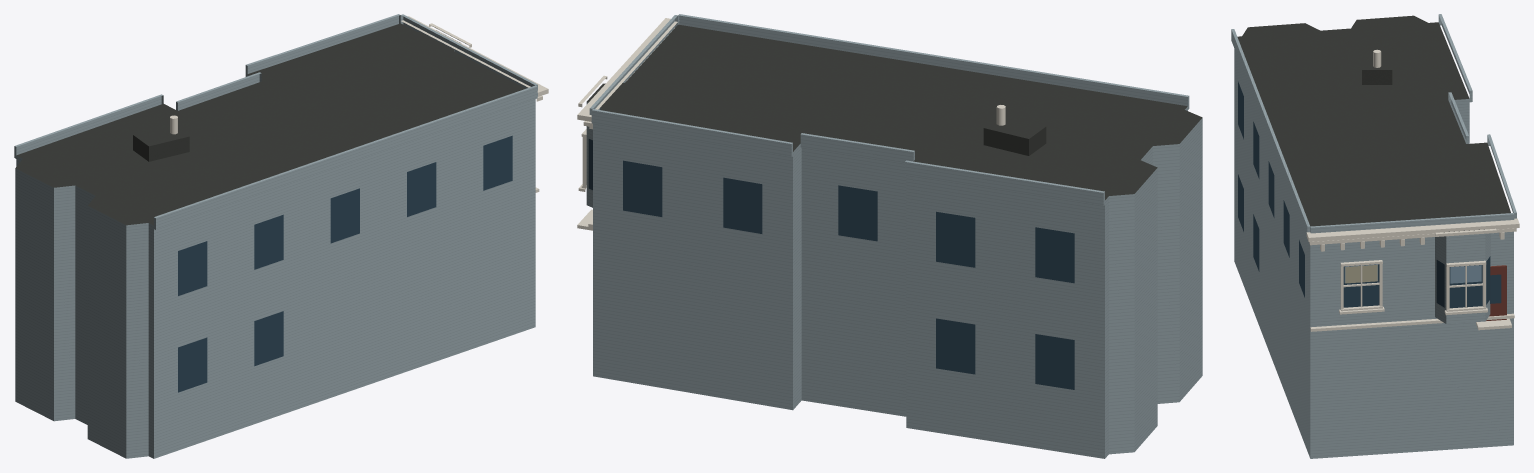
The picture shows the model from 3 angles, left to right: view 1: azimuth 30°, elevation 25°; view 2: azimuth 150°, elevation 25°; view 3: azimuth 270°, elevation 25°; orthographic projection. The views are drawn at different scales.
Parts seen in each view (by area): view 1: Footprint 0 / surface 2, Footprint 0 / surface 1, Facade bay volumes, Inset glazing, Cornices and window frames, Inferred rooftop service enclosure / surface 5, Inferred rooftop service enclosure / surface 3; view 2: Footprint 0 / surface 2, Footprint 0 / surface 1, Facade bay volumes, Inset glazing, Cornices and window frames, Inferred rooftop service enclosure / surface 6, Inferred rooftop service enclosure / surface 3; view 3: Footprint 0 / surface 2, Footprint 0 / surface 1, Facade bay volumes, Cornices and window frames, Inset glazing, Sky reflection panels, Storefronts and doors, Interior blind variation, Inferred rooftop service enclosure / surface 1, Inferred rooftop service enclosure / surface 3.
Part boxes in pixels (bbox=[...]): Footprint 0 / surface 2: bbox=[15, 74, 535, 458]; Footprint 0 / surface 1: bbox=[15, 23, 525, 225]; Facade bay volumes: bbox=[14, 14, 537, 229]; Inset glazing: bbox=[178, 135, 512, 392]; Cornices and window frames: bbox=[401, 16, 548, 192]; Inferred rooftop service enclosure / surface 5: bbox=[149, 136, 189, 161]; Inferred rooftop service enclosure / surface 3: bbox=[133, 126, 189, 146]; Footprint 0 / surface 2: bbox=[593, 106, 1202, 458]; Footprint 0 / surface 1: bbox=[601, 24, 1202, 199]; Facade bay volumes: bbox=[586, 14, 1189, 207]; Inset glazing: bbox=[588, 139, 1074, 389]; Cornices and window frames: bbox=[577, 18, 677, 230]; Inferred rooftop service enclosure / surface 6: bbox=[983, 128, 1028, 155]; Inferred rooftop service enclosure / surface 3: bbox=[984, 116, 1045, 138]; Footprint 0 / surface 2: bbox=[1234, 49, 1513, 458]; Footprint 0 / surface 1: bbox=[1237, 15, 1510, 226]; Facade bay volumes: bbox=[1231, 14, 1516, 323]; Cornices and window frames: bbox=[1306, 218, 1519, 331]; Inset glazing: bbox=[1238, 81, 1501, 308]; Sky reflection panels: bbox=[1344, 264, 1481, 283]; Storefronts and doors: bbox=[1486, 265, 1506, 320]; Interior blind variation: bbox=[1345, 265, 1377, 283]; Inferred rooftop service enclosure / surface 1: bbox=[1362, 70, 1392, 84]; Inferred rooftop service enclosure / surface 3: bbox=[1362, 51, 1392, 69].
Bounding box in the file's own units: 21.06 × 11.12 × 11.43.
